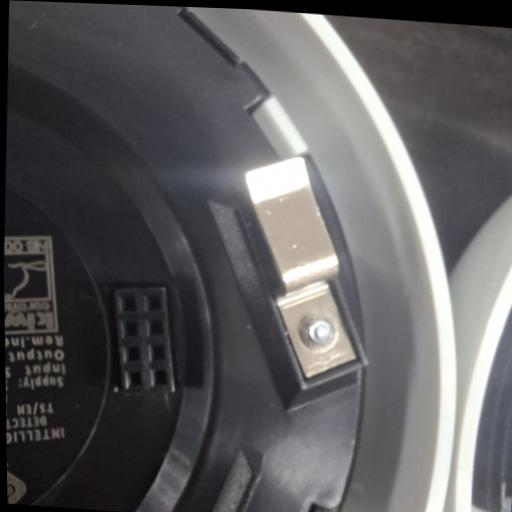yaysiz: (234, 151, 370, 385)
